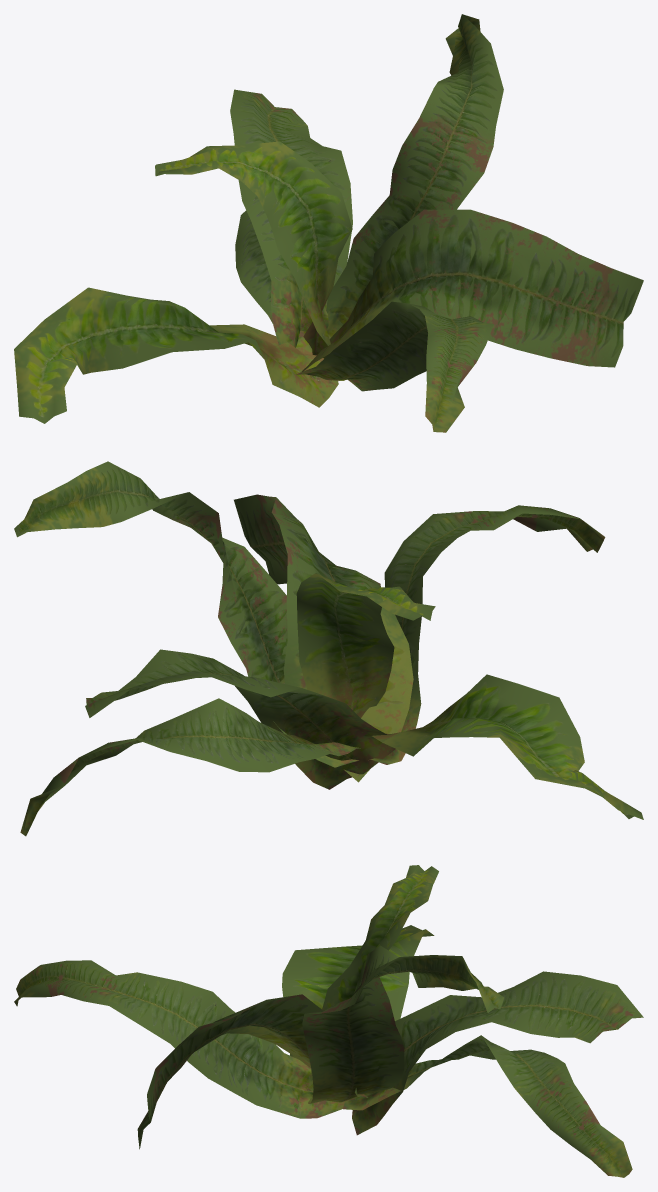
The model's file is Planta_11.glb.
The picture shows the model from 3 angles, top to bottom: view 1: azimuth 30°, elevation 25°; view 2: azimuth 150°, elevation 25°; view 3: azimuth 270°, elevation 25°; orthographic projection. The views are drawn at different scales.
Parts seen in each view (by area): view 1: Planta 11; view 2: Planta 11; view 3: Planta 11.
Part boxes in pixels (box(x1,y1,x2,y2)): Planta 11: box(14, 14, 643, 432); Planta 11: box(14, 461, 643, 836); Planta 11: box(14, 865, 643, 1177).
Bounding box in the file's own units: 0.9935 × 0.5162 × 1.1.
1 material, 1 textured.
